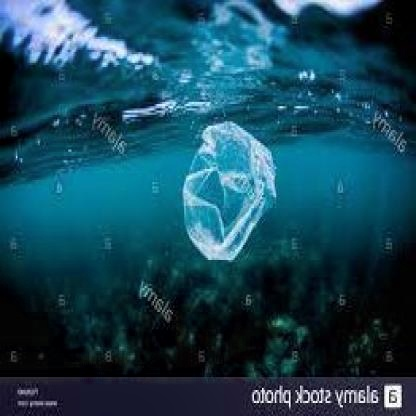pbag: (181, 119, 279, 262)
